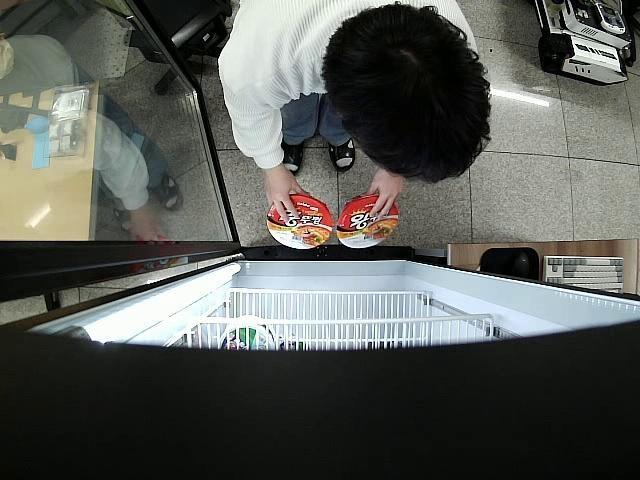10_wangTtukkeong: (268, 196, 332, 250), (338, 196, 400, 250)
